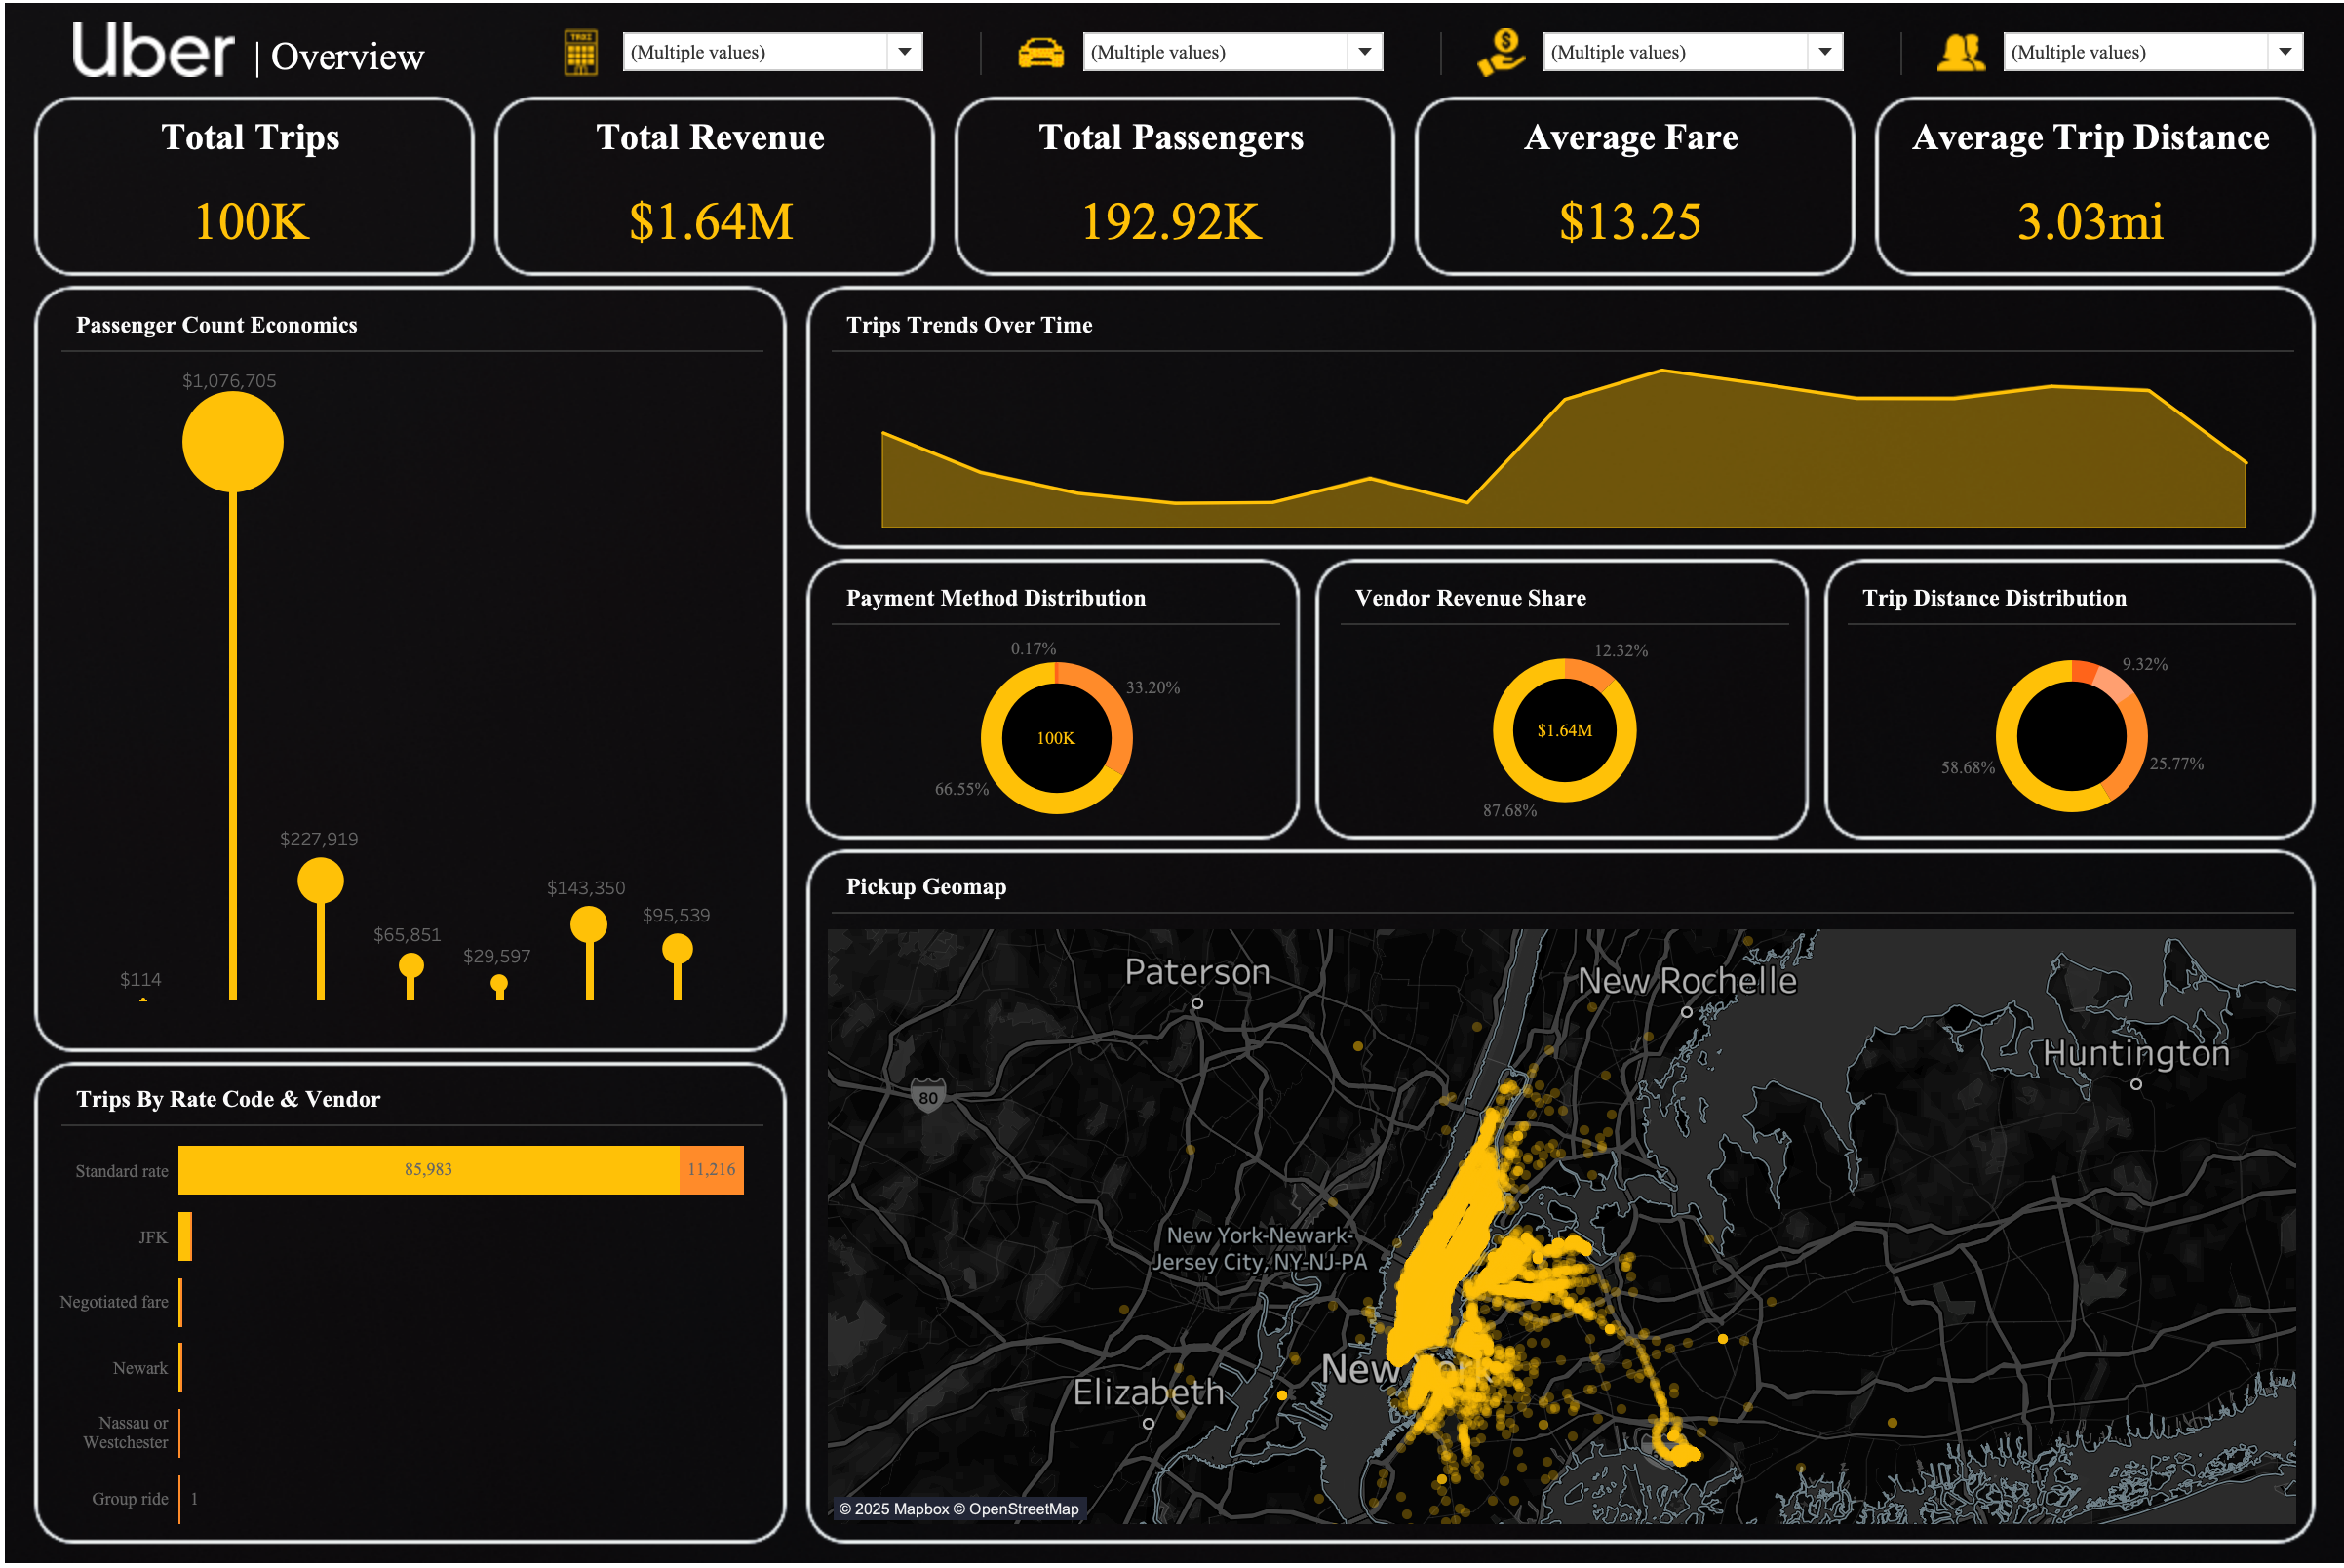

This screenshot's page, from the dashboard's own definition file:
{"tool":"tableau","page":{"name":"Dashboard","canvas":[1200,800],"ordinal":0},"visuals":[{"type":"image","param":"Image/Design Layout 3.png","box":[0,0,1200,800]},{"type":"image","param":"Image/uber logo.png","box":[35,10,92,28]},{"type":"text","box":[125,13,100,30]},{"type":"image","param":"Image/office.png","box":[283,13,25,25]},{"type":"image","param":"Image/Car.png","box":[519,13,25,25]},{"type":"image","param":"Image/income.png","box":[755,13,25,25]},{"type":"image","param":"Image/male-and-female.png","box":[991,13,25,25]},{"type":"filter","title":"Payment Method Distribution","param":"[federated.1px3xk21v0wsd01gcnuaa0qtawzx].[none:Calculation_6485394576192118795:n","box":[314,15,160,20]},{"type":"blank","box":[500,15,1,22]},{"type":"filter","title":"Payment Method Distribution","param":"[federated.1px3xk21v0wsd01gcnuaa0qtawzx].[none:rate_code_name:nk]","box":[550,15,160,20]},{"type":"blank","box":[736,15,1,22]},{"type":"filter","title":"Payment Method Distribution","param":"[federated.1px3xk21v0wsd01gcnuaa0qtawzx].[none:payment_type_name:nk]","box":[786,15,160,20]},{"type":"blank","box":[972,15,1,22]},{"type":"filter","title":"Payment Method Distribution","param":"[federated.1px3xk21v0wsd01gcnuaa0qtawzx].[none:passenger_count:ok]","box":[1022,15,160,20]},{"type":"worksheet","title":"Total Trips","mark":"Automatic","box":[25,56,203,75]},{"type":"worksheet","title":"Total Revenue","mark":"Automatic","box":[261,56,203,75]},{"type":"worksheet","title":"Total Passengers","mark":"Automatic","box":[497,56,203,75]},{"type":"worksheet","title":"Average Fare","mark":"Automatic","box":[733,56,203,75]},{"type":"worksheet","title":"Avg. Trip Distance","mark":"Automatic","box":[969,56,203,75]},{"type":"text","box":[34,150,215,30]},{"type":"text","box":[429,150,215,30]},{"type":"blank","box":[29,178,360,1]},{"type":"blank","box":[424,178,750,1]},{"type":"worksheet","title":"Trips Trends Over Time","mark":"Automatic","rows":["VendorID","VendorID"],"cols":["tpep_pickup_datetime"],"box":[425,183,749,86]},{"type":"worksheet","title":"Passenger Count Economics","mark":"Circle","rows":["Calculation_6485394574905262080","Calculation_6485394574905262080"],"cols":["passenger_count"],"box":[25,186,366,341]},{"type":"text","box":[429,290,215,30]},{"type":"text","box":[690,290,215,30]},{"type":"text","box":[950,290,215,30]},{"type":"blank","box":[424,318,230,1]},{"type":"blank","box":[685,318,230,1]},{"type":"blank","box":[945,318,230,1]},{"type":"worksheet","title":"Vendor Revenue Share","mark":"Pie","cols":["Calculation_6485394575160471555","Calculation_6485394575160471555"],"box":[684,321,232,104]},{"type":"worksheet","title":"Trip Distance Distribution","mark":"Pie","cols":["Calculation_6485394575160471555","Calculation_6485394575160471555"],"box":[944,321,232,110]},{"type":"worksheet","title":"Payment Method Distribution","mark":"Pie","cols":["Calculation_6485394575160471555","Calculation_6485394575160471555"],"box":[424,322,231,110]},{"type":"text","box":[429,438,215,30]},{"type":"blank","box":[424,466,750,1]},{"type":"worksheet","title":"Pickup Geo Map","mark":"Automatic","rows":["pickup_latitude"],"cols":["pickup_longitude"],"box":[422,475,753,305]},{"type":"text","box":[34,547,215,30]},{"type":"blank","box":[29,575,360,1]},{"type":"worksheet","title":"Trips by Rate Code & Vendor","mark":"Bar","rows":["rate_code_name"],"cols":["VendorID"],"box":[25,582,369,202]}]}

Visuals, with their boxes in screenshot pixels (x1, y1, x2, y2), scaled from the page's 1200x800 canvas onto the 2344x1568 screenshot:
image: [0,0,2343,1567]
image: [68,20,248,74]
text: [244,25,440,84]
image: [553,25,602,74]
image: [1014,25,1063,74]
image: [1475,25,1524,74]
image: [1935,25,1984,74]
"Payment Method Distribution" filter: [613,29,926,68]
blank: [977,29,979,72]
"Payment Method Distribution" filter: [1074,29,1387,68]
blank: [1437,29,1439,72]
"Payment Method Distribution" filter: [1536,29,1848,68]
blank: [1898,29,1900,72]
"Payment Method Distribution" filter: [1996,29,2309,68]
"Total Trips" worksheet: [49,110,446,256]
"Total Revenue" worksheet: [510,110,907,256]
"Total Passengers" worksheet: [971,110,1367,256]
"Average Fare" worksheet: [1431,110,1828,256]
"Avg. Trip Distance" worksheet: [1893,110,2289,256]
text: [66,294,487,353]
text: [838,294,1258,353]
blank: [57,349,760,351]
blank: [828,349,2293,351]
"Trips Trends Over Time" worksheet: [830,359,2293,528]
"Passenger Count Economics" worksheet (Circle marks): [49,365,763,1033]
text: [838,568,1258,627]
text: [1348,568,1768,627]
text: [1856,568,2276,627]
blank: [828,623,1277,625]
blank: [1338,623,1787,625]
blank: [1846,623,2295,625]
"Vendor Revenue Share" worksheet (Pie marks): [1336,629,1789,833]
"Trip Distance Distribution" worksheet (Pie marks): [1844,629,2297,844]
"Payment Method Distribution" worksheet (Pie marks): [828,631,1279,846]
text: [838,858,1258,918]
blank: [828,914,2293,916]
"Pickup Geo Map" worksheet: [824,931,2295,1529]
text: [66,1072,487,1131]
blank: [57,1127,760,1129]
"Trips by Rate Code & Vendor" worksheet (Bar marks): [49,1141,769,1537]
